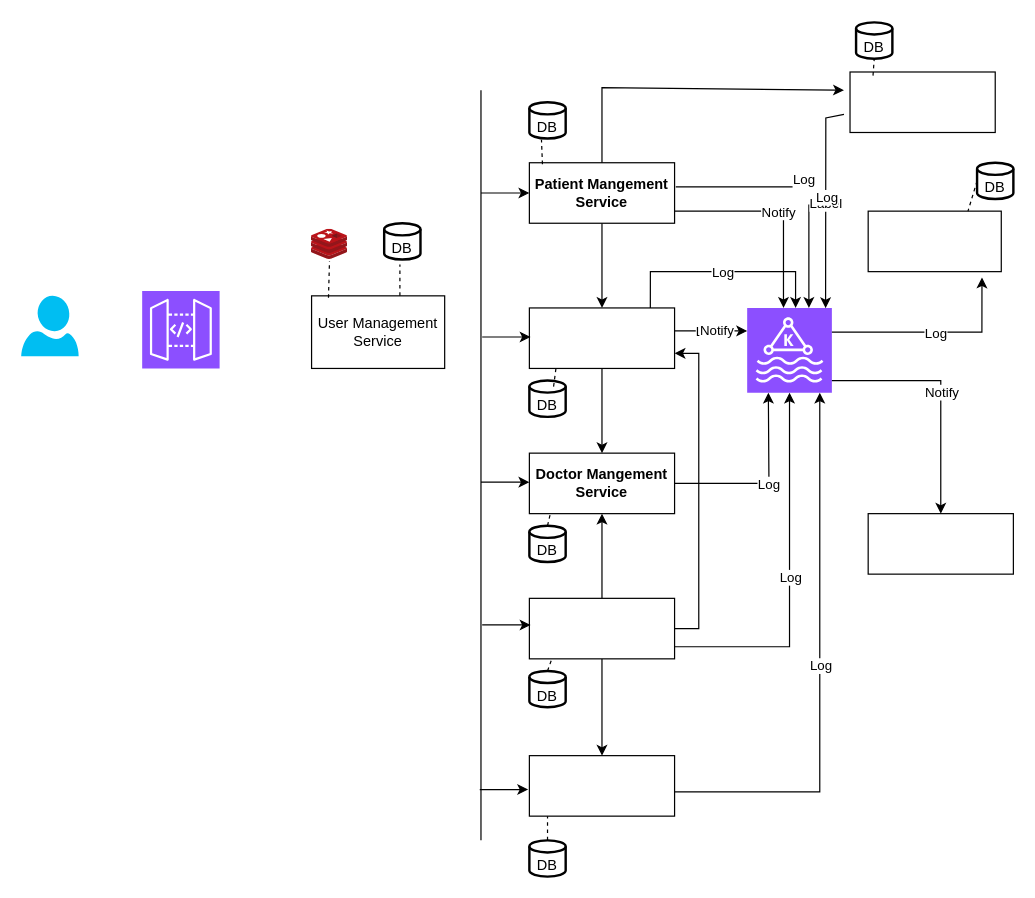
The diagram is 1035 pixels wide and 898 high, and some of its shapes have lost their labels. Each missing label, with the centre of its shape:
Appointment Mangement Service: [601,337]
Bill and Payment Service: [922,101]
Inventory Mangement Service: [601,785]
Logging and Monitoring Service: [934,241]
Notification Service: [940,543]
Staff Mangement Service: [601,628]
